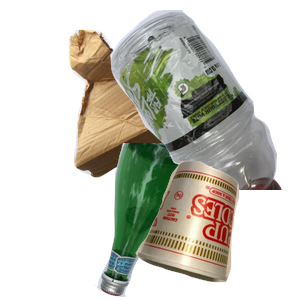cardboard: (66, 27, 242, 197)
glass: (93, 143, 284, 300)
plastic: (73, 10, 300, 190)
trash: (133, 158, 300, 300)
